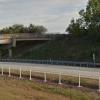Bridge: (1, 27, 48, 51)
